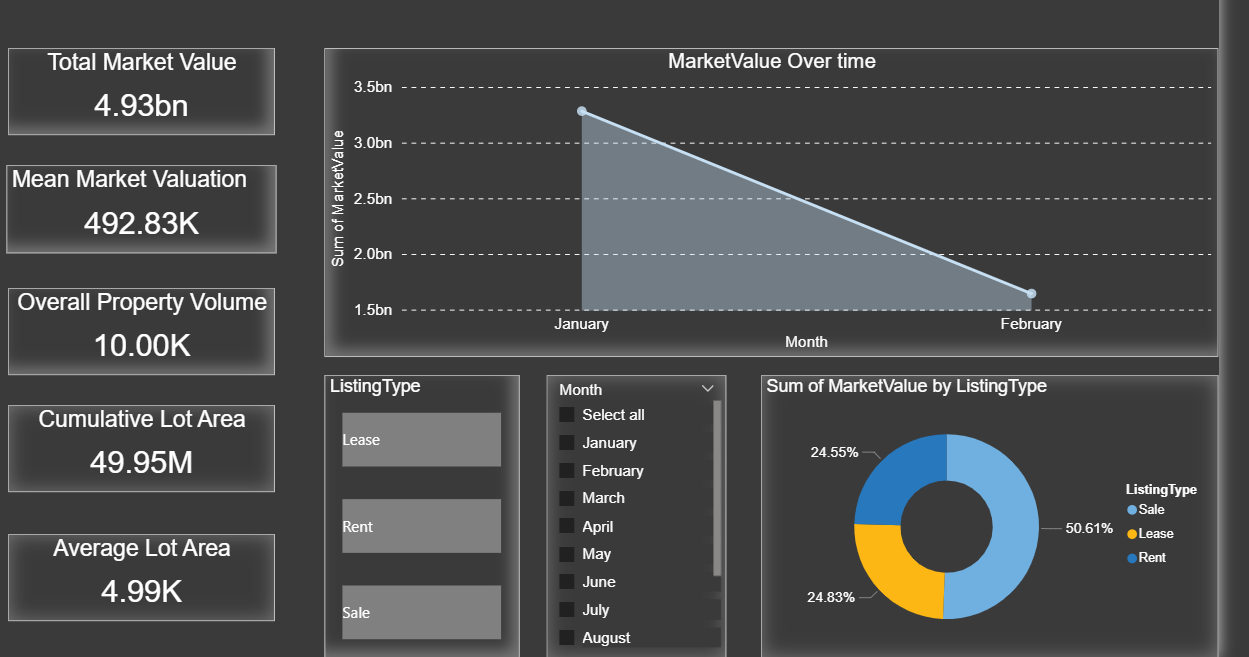

Layout of this report page (visuals, bound fields, positions):
{"tool":"powerbi","page":{"name":"Page 9","canvas":[1280,720],"ordinal":8},"visuals":[{"type":"donutChart","fields":{"Category":["Properties.ListingType"],"Y":["Sum(Properties.MarketValue)"]},"box":[803.4,425.1,476.7,295.4],"z":0},{"type":"areaChart","title":"MarketValue  Over time ","fields":{"Category":["Properties.ListingDate.Variation.Date Hierarchy.Month","Properties.ListingDate.Variation.Date Hierarchy.Day"],"Y":["Sum(Properties.MarketValue)"]},"box":[348.5,84.4,931.5,322],"z":1000},{"type":"advancedSlicerVisual","fields":{"Values":["Properties.ListingType"]},"box":[348.5,425.1,203.2,295.4],"z":2000},{"type":"slicer","fields":{"Values":["Properties.ListingDate.Variation.Date Hierarchy.Month"]},"box":[579.9,425.1,187.6,295.4],"z":3000},{"type":"card","title":"Total Market Value","fields":{"Values":["Sum(Properties.MarketValue)"]},"box":[18.8,84.4,278.2,90.7],"z":4000},{"type":"card","title":"Mean Market Valuation","fields":{"Values":["Avg(Properties.MarketValue)"]},"box":[17.2,206.3,281.3,92.2],"z":5000},{"type":"card","title":"Overall Property Volume ","fields":{"Values":["CountNonNull(Properties.PropertyID)"]},"box":[18.8,334.5,278.2,90.7],"z":6000},{"type":"card","title":"Cumulative Lot Area","fields":{"Values":["Sum(Properties.LotSize)"]},"box":[18.8,456.4,278.2,90.7],"z":7000},{"type":"card","title":"Average Lot Area","fields":{"Values":["Avg(Properties.LotSize)"]},"box":[18.8,590.8,278.2,90.7],"z":8000}]}

Visuals, with their boxes on the page's 1280x720 design canvas (x1, y1, x2, y2). These are canvas units, not pixel positions in the 1249x657 screenshot, which may show the page scaled, cropped or inside an application window:
donutChart - Properties.ListingType x Sum(Properties.MarketValue): left=803, top=425, right=1280, bottom=720
"MarketValue  Over time " areaChart: left=348, top=84, right=1280, bottom=406
advancedSlicerVisual - Properties.ListingType: left=348, top=425, right=552, bottom=720
slicer - Properties.ListingDate.Variation.Date Hierarchy.Month: left=580, top=425, right=768, bottom=720
"Total Market Value" card: left=19, top=84, right=297, bottom=175
"Mean Market Valuation" card: left=17, top=206, right=298, bottom=298
"Overall Property Volume " card: left=19, top=334, right=297, bottom=425
"Cumulative Lot Area" card: left=19, top=456, right=297, bottom=547
"Average Lot Area" card: left=19, top=591, right=297, bottom=682
